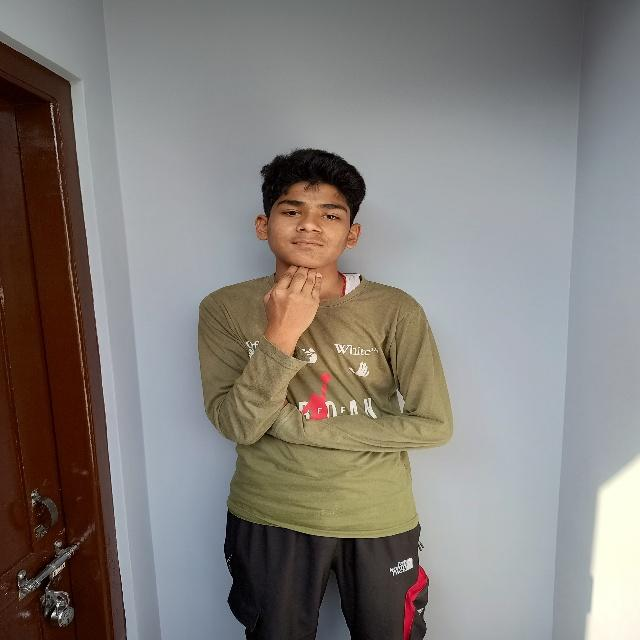Chin Flick: (240, 154, 387, 361)
